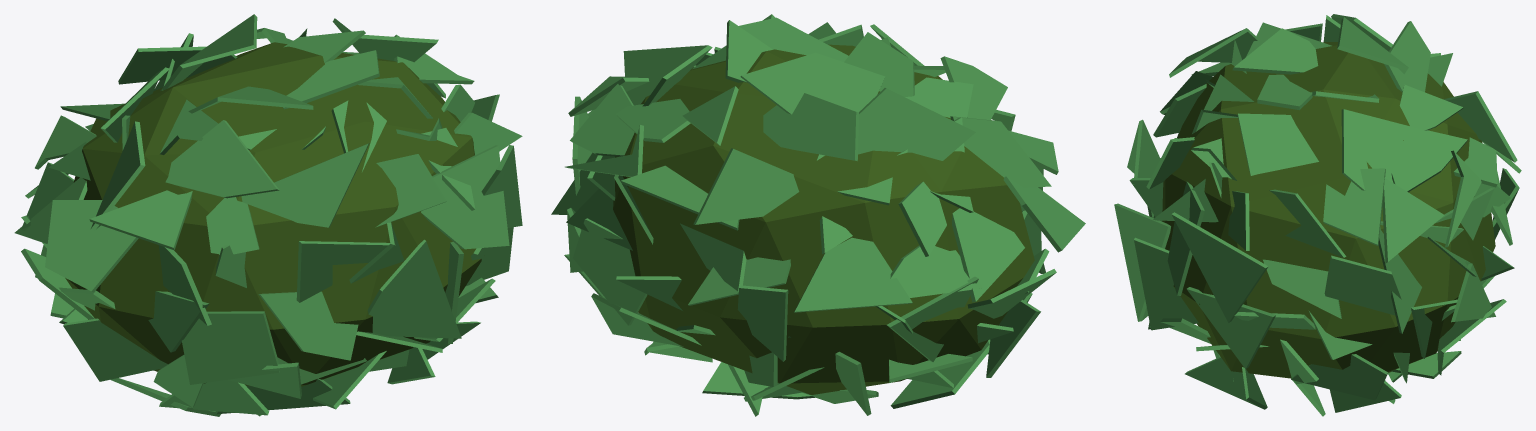
File: Bush.fbx
The picture shows the model from 3 angles, left to right: view 1: azimuth 30°, elevation 25°; view 2: azimuth 150°, elevation 25°; view 3: azimuth 270°, elevation 25°; orthographic projection. The views are drawn at different scales.
Parts seen in each view (by area): view 1: Bush; view 2: Bush; view 3: Bush.
Part boxes in pixels (bbox=[...]): Bush: bbox=[14, 14, 522, 416]; Bush: bbox=[551, 14, 1085, 416]; Bush: bbox=[1114, 14, 1521, 416].
Bounding box in the file's own units: 242 × 175 × 192.
